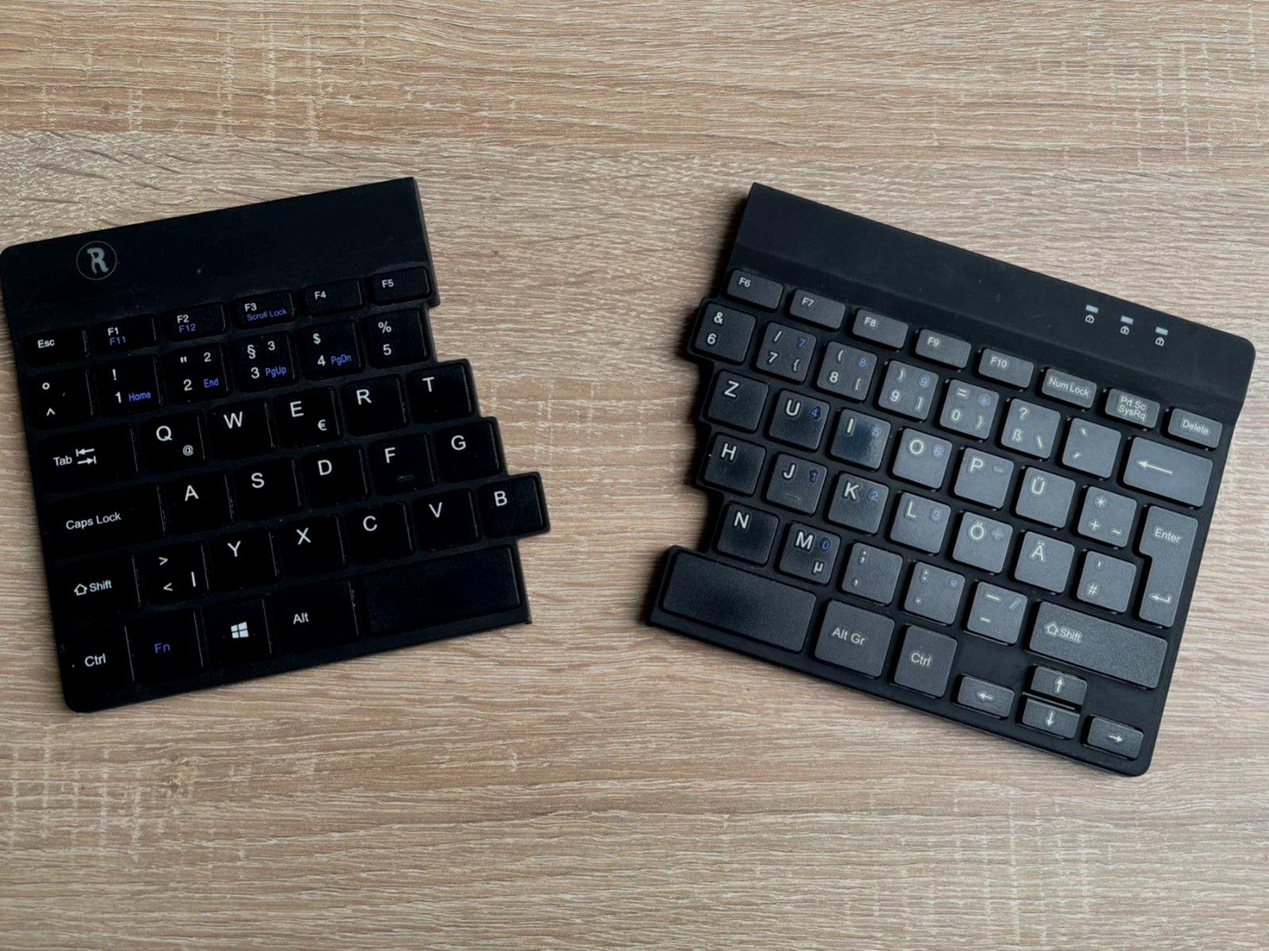0: (935, 374, 1001, 437)
1: (98, 353, 160, 414)
2: (164, 341, 228, 399)
3: (231, 328, 294, 388)
4: (297, 314, 360, 375)
5: (363, 305, 426, 364)
6: (687, 297, 756, 360)
7: (752, 317, 819, 381)
8: (812, 337, 879, 398)
9: (873, 356, 941, 418)
a: (167, 466, 230, 529)
accent: (1058, 412, 1121, 475)
ae: (1009, 528, 1075, 591)
alt-left: (273, 575, 358, 651)
altgr-right: (810, 593, 895, 677)
b: (479, 472, 546, 534)
c: (345, 498, 411, 560)
caret: (26, 364, 92, 425)
comma: (838, 537, 903, 603)
d: (301, 441, 365, 503)
del: (1119, 431, 1212, 505)
e: (274, 383, 337, 444)
enter: (1136, 500, 1198, 626)
f: (368, 429, 431, 489)
g: (434, 416, 499, 478)
h: (696, 430, 766, 493)
hash: (1072, 546, 1136, 612)
i: (825, 404, 892, 466)
j: (762, 450, 828, 512)
k: (823, 469, 889, 533)
keyboard: (626, 175, 1264, 807), (2, 156, 580, 738)
l: (885, 489, 952, 553)
less: (143, 536, 207, 600)
m: (773, 518, 843, 584)
minus: (962, 577, 1028, 642)
n: (712, 498, 780, 564)
o: (887, 424, 955, 487)
oe: (947, 508, 1013, 573)
p: (949, 443, 1016, 506)
plus: (1073, 481, 1136, 545)
point: (900, 557, 966, 622)
q: (140, 407, 204, 470)
r: (341, 372, 403, 431)
s: (232, 454, 299, 517)
shift-left: (55, 549, 141, 617)
shift-lock: (46, 477, 164, 552)
shift-right: (1025, 599, 1169, 689)
space: (654, 545, 820, 653), (359, 541, 524, 633)
ss: (996, 394, 1061, 456)
strg-left: (64, 619, 133, 693)
strg-right: (889, 621, 958, 697)
t: (407, 358, 470, 419)
tab: (36, 419, 136, 490)
u: (764, 385, 831, 449)
ue: (1011, 462, 1076, 527)
v: (414, 485, 476, 547)
w: (208, 395, 271, 456)
x: (280, 510, 342, 574)
y: (213, 524, 276, 587)
z: (700, 367, 770, 429)
